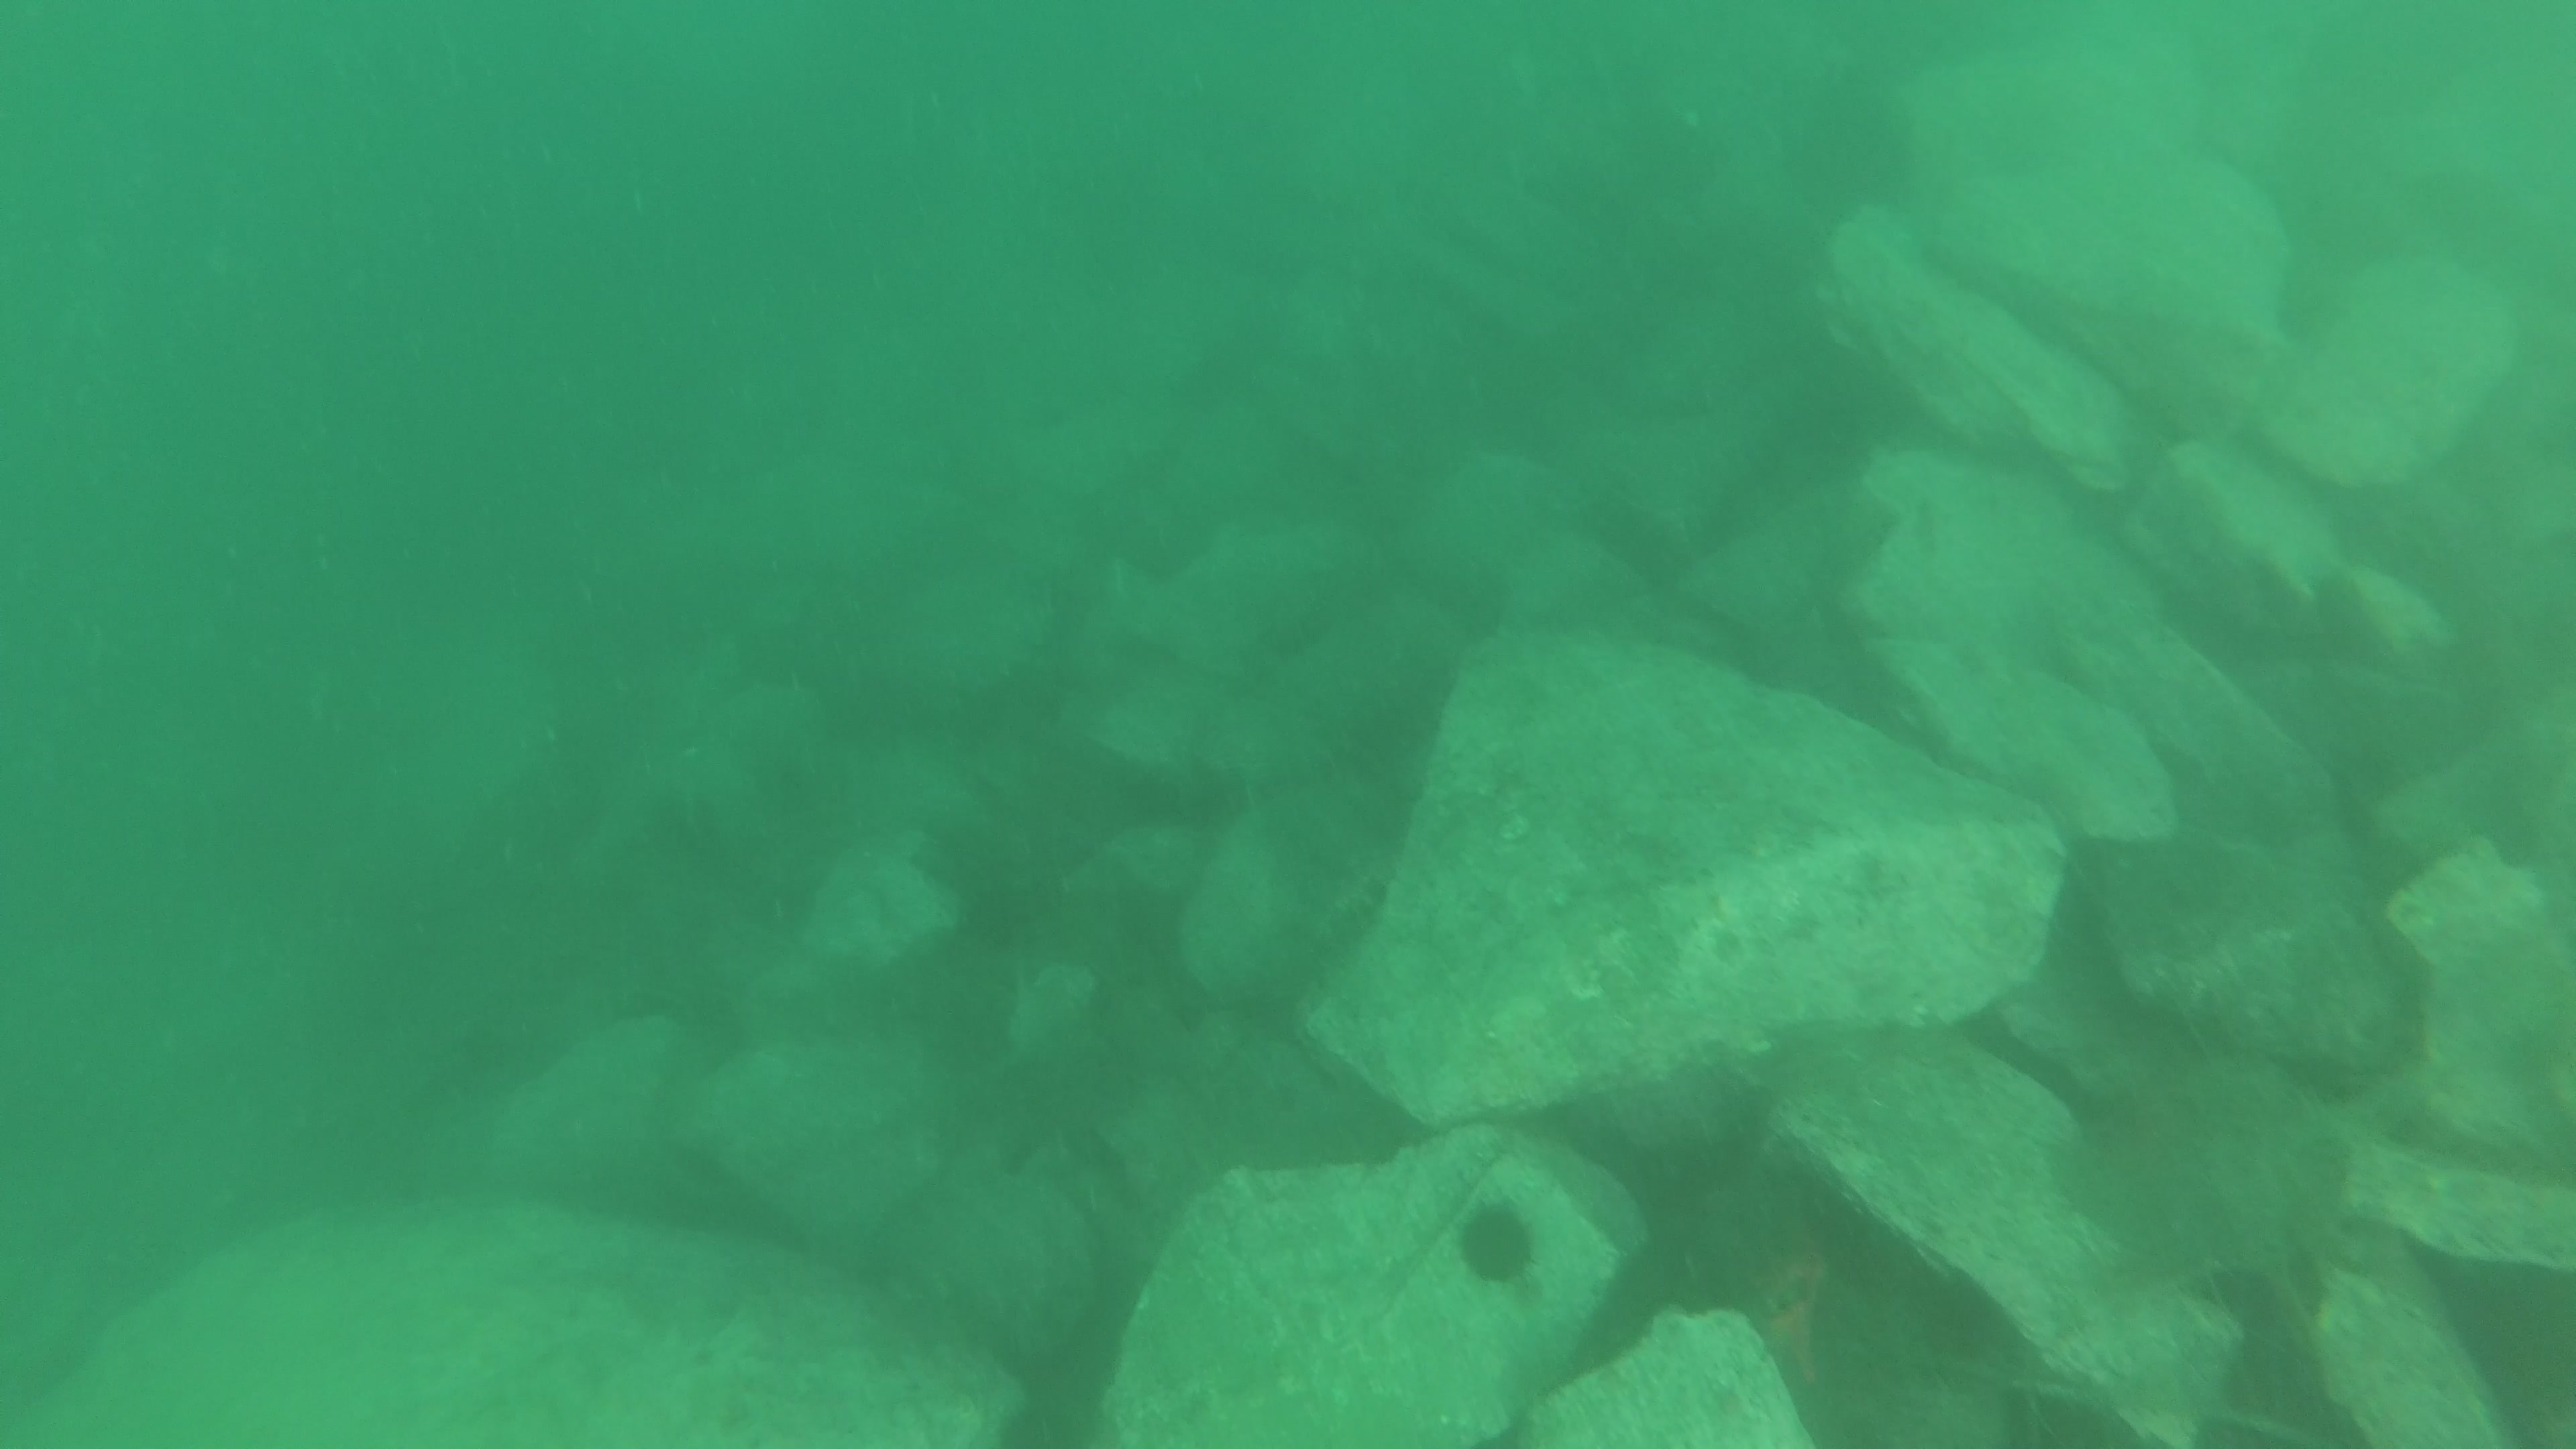echinus: (1451, 1185, 1548, 1286)
